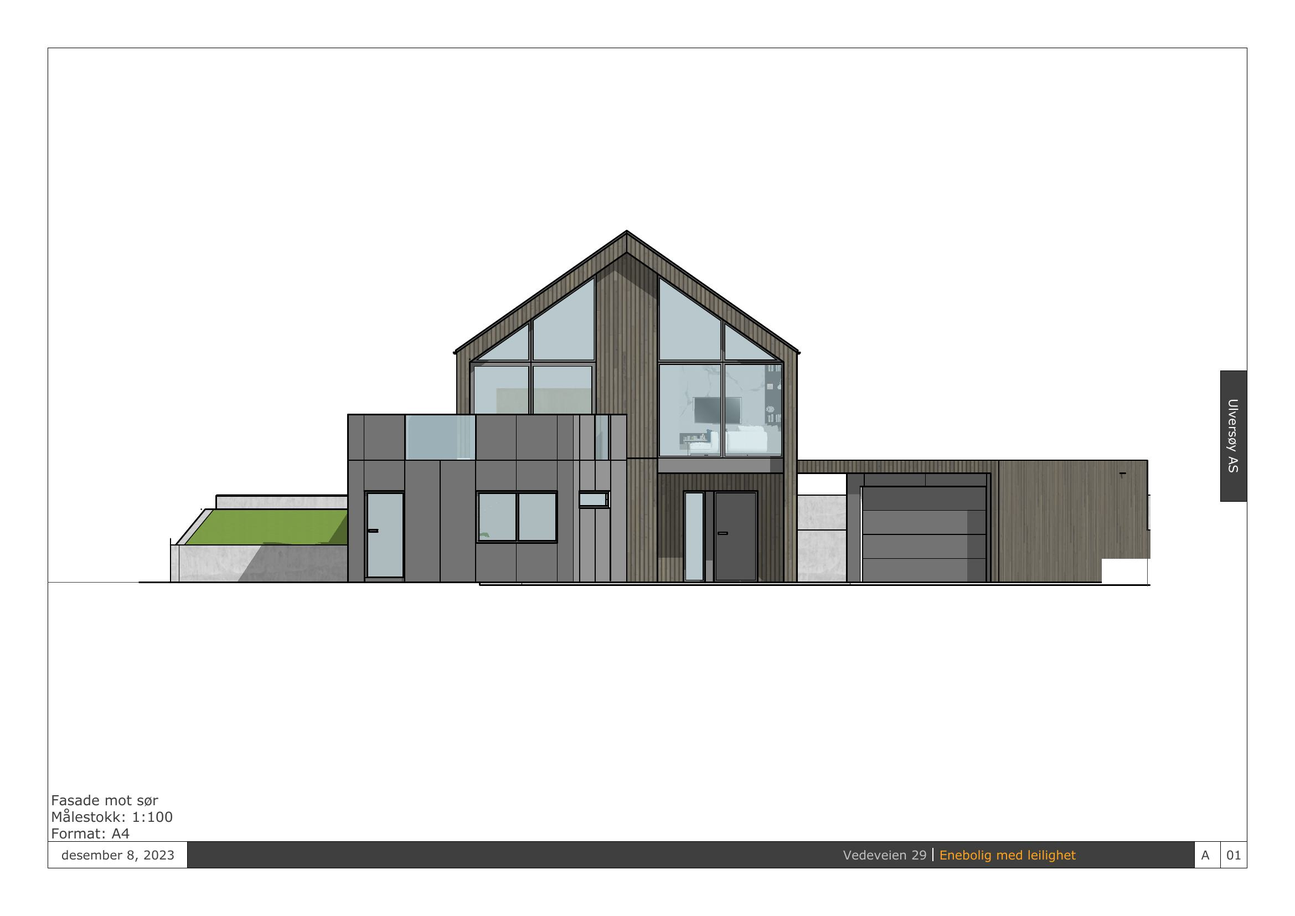fasade: (170, 229, 1152, 587)
